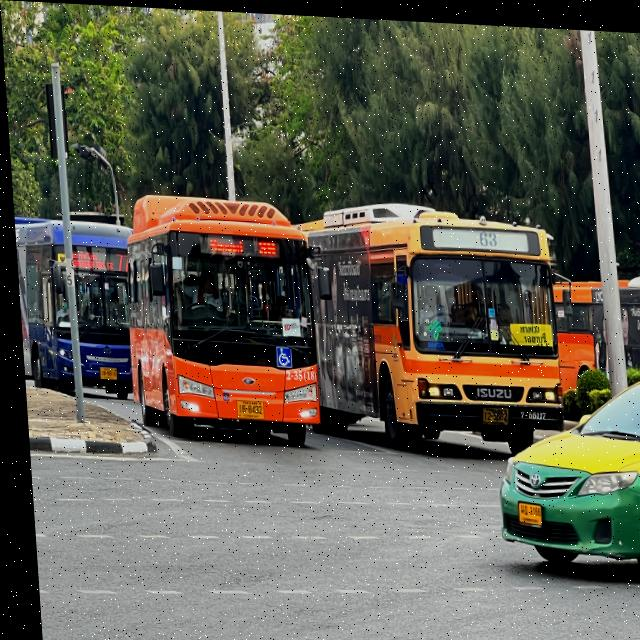BMTA-bus: (296, 200, 558, 446)
Bus Line Number: (472, 222, 498, 248), (251, 233, 277, 257), (110, 251, 128, 274)
Bus Side Number: (281, 365, 312, 382), (512, 404, 543, 417)
Destination Sign: (192, 230, 251, 258), (506, 317, 549, 344), (69, 249, 112, 272)
TSB-Bus: (124, 194, 316, 444), (12, 219, 128, 397)
